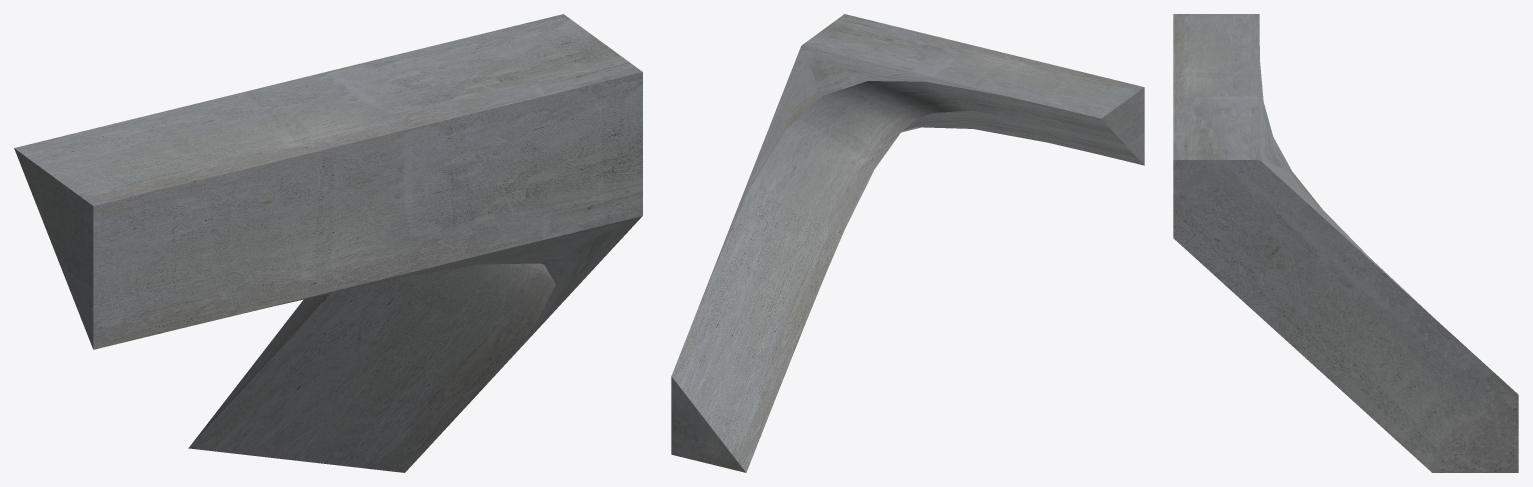
Rendered from module_G4.fbx.
3 views of the same model, side by side, from view 1: azimuth 30°, elevation 25°; view 2: azimuth 150°, elevation 25°; view 3: azimuth 270°, elevation 25° (orthographic). The views are drawn at different scales.
Parts seen in each view (by area): view 1: modules; view 2: modules; view 3: modules.
Part boxes in pixels (left/top/right/bottom): modules: left=14, top=14, right=642, bottom=472; modules: left=671, top=14, right=1144, bottom=472; modules: left=1173, top=14, right=1518, bottom=472.
Bounding box in the file's own units: 1000 × 1000 × 1000.
Materials: 1 (1 with a texture image).
